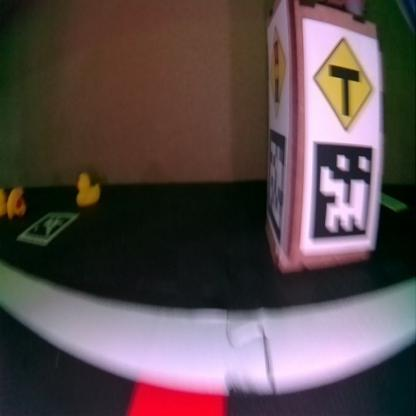Duckie: (76, 172, 96, 204), (9, 186, 23, 217), (0, 191, 6, 214)
Intersection sign: (303, 19, 376, 136)
QR code: (309, 142, 375, 246), (264, 136, 286, 243), (22, 211, 76, 242)
Signal sign: (267, 23, 289, 122)
